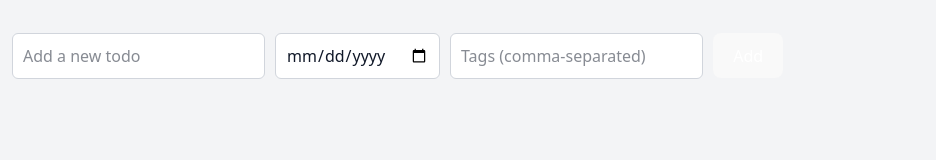
Test: AddTodoForm › hides the error message when user starts typing after an error
Submit the form "Add", box [12,33,783,79]
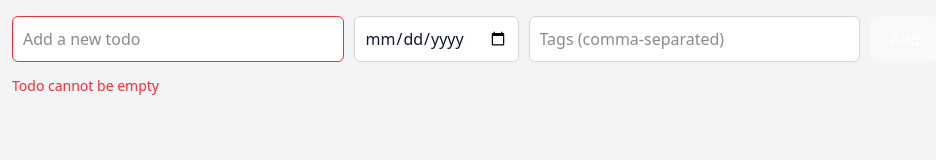
Check: the text "Todo cannot be empty" is shown, box [12,76,159,95]
# Start typing
Type "a" into the field with placeholder "Add a new todo". click: {"x": 178, "y": 39}
box: [12,16,344,62]
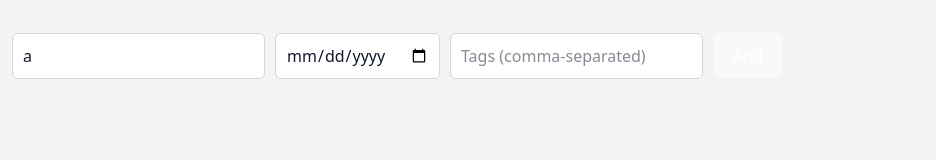
Check: the text "Todo cannot be empty" is gone
